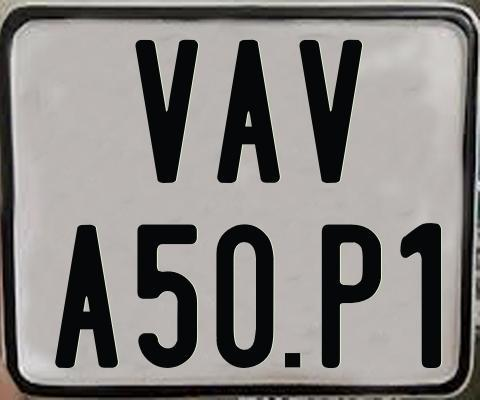0: (215, 224, 275, 374)
1: (399, 223, 441, 372)
5: (136, 224, 202, 372)
A: (55, 223, 122, 366), (214, 39, 277, 188)
P: (321, 224, 383, 371)
V: (299, 40, 365, 189), (133, 40, 196, 185)
